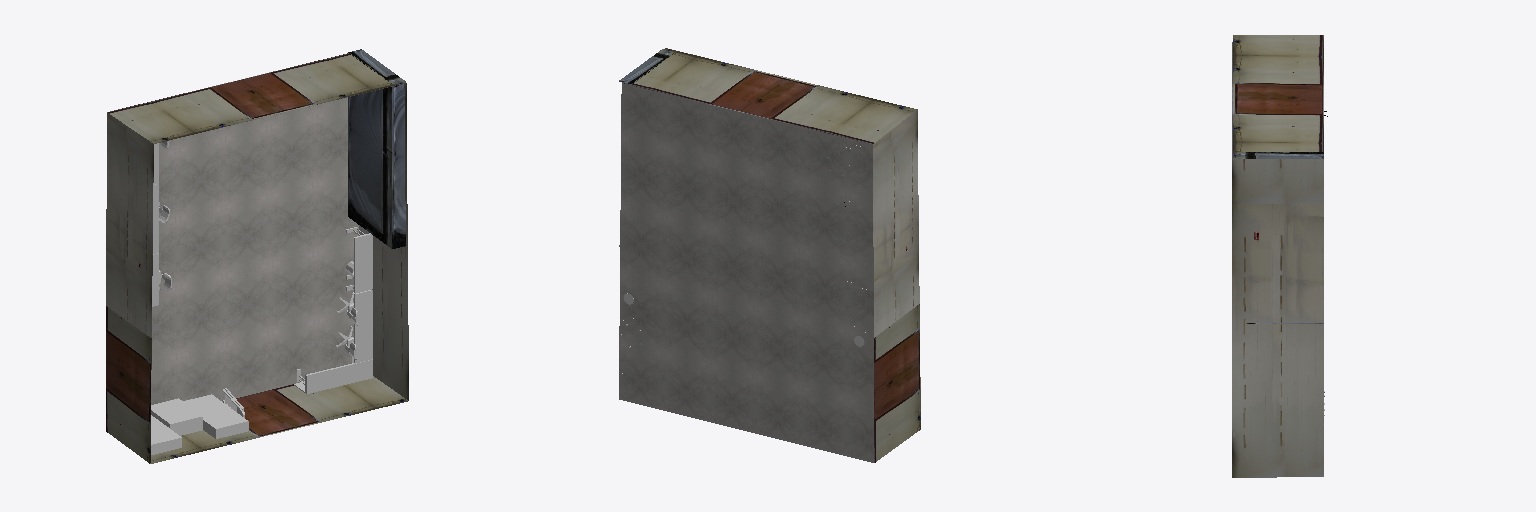
The picture shows the model from 3 angles: view 1: azimuth 30°, elevation 25°; view 2: azimuth 150°, elevation 25°; view 3: azimuth 270°, elevation 25°; orthographic projection.
Visible parts, largest first — view 1: Plane.003, Closed_cabinet_Big_AssetsC_MAT_0.004, Closed_cabinet_Big_AssetsC_MAT_0.001, Desk_small_AssetsC_MAT_0.005, Desk_small_AssetsC_MAT_0.006_Desk_small_AssetsC_MAT_0.008, Closed_cabinet_Big_AssetsC_MAT_0.002, Desk_small_AssetsC_MAT_0.007_Desk_small_AssetsC_MAT_0.009, Closed_cabinet_Big_AssetsC_MAT_0.003; view 2: Plane.003, Closed_cabinet_Big_AssetsC_MAT_0.004; view 3: Plane.003, Closed_cabinet_Big_AssetsC_MAT_0.004.
Boxes of the visible parts, x1=… form: Plane.003: x1=106, y1=53, x2=408, y2=463; Closed_cabinet_Big_AssetsC_MAT_0.004: x1=348, y1=49, x2=405, y2=248; Closed_cabinet_Big_AssetsC_MAT_0.001: x1=183, y1=394, x2=248, y2=438; Desk_small_AssetsC_MAT_0.005: x1=294, y1=357, x2=372, y2=393; Desk_small_AssetsC_MAT_0.006_Desk_small_AssetsC_MAT_0.008: x1=346, y1=285, x2=372, y2=363; Closed_cabinet_Big_AssetsC_MAT_0.002: x1=151, y1=398, x2=202, y2=435; Desk_small_AssetsC_MAT_0.007_Desk_small_AssetsC_MAT_0.009: x1=346, y1=225, x2=372, y2=293; Closed_cabinet_Big_AssetsC_MAT_0.003: x1=151, y1=415, x2=181, y2=454; Plane.003: x1=619, y1=48, x2=920, y2=462; Closed_cabinet_Big_AssetsC_MAT_0.004: x1=619, y1=49, x2=673, y2=246; Plane.003: x1=1232, y1=35, x2=1323, y2=477; Closed_cabinet_Big_AssetsC_MAT_0.004: x1=1236, y1=152, x2=1323, y2=323.
Bounding box in the file's own units: 8.67 × 10.25 × 2.79.
Materials: 29 (4 with a texture image).